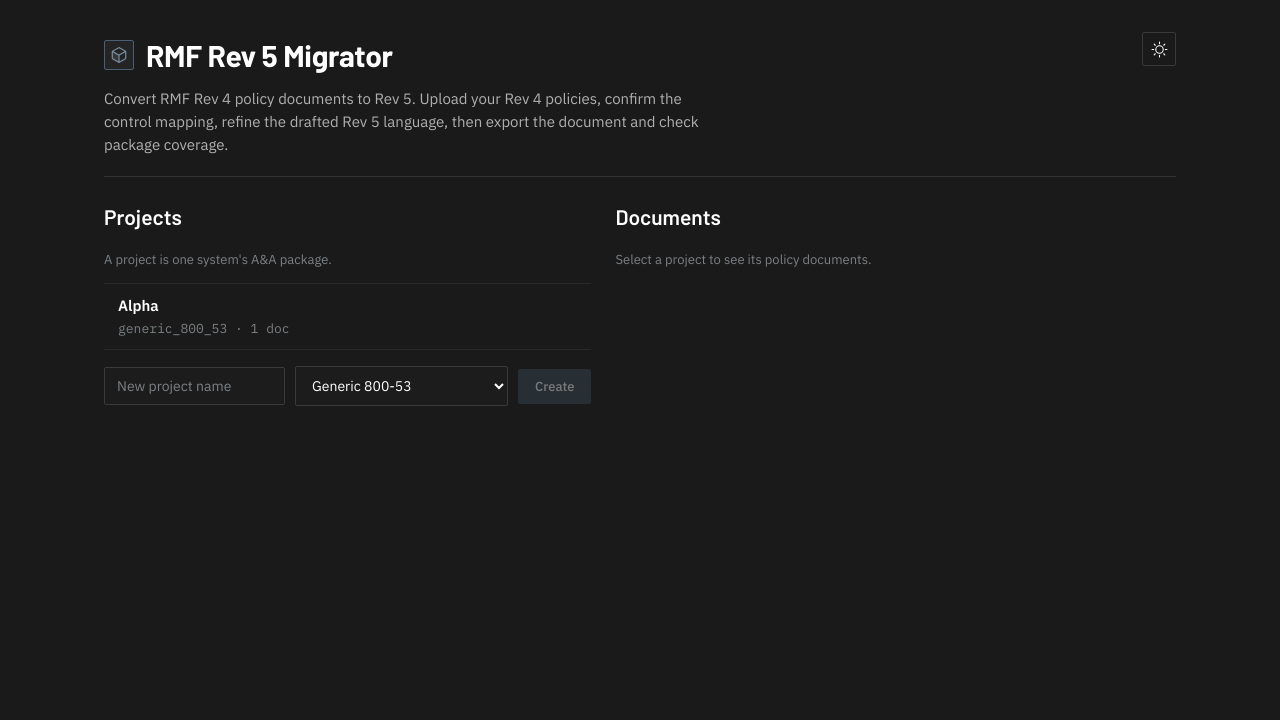
Test case: Failed document reasons › explains a legacy .doc rejection in plain words
Click the button "Alpha generic_800_53 · 1 doc". click: (138, 305)
box: left=104, top=284, right=591, bottom=349
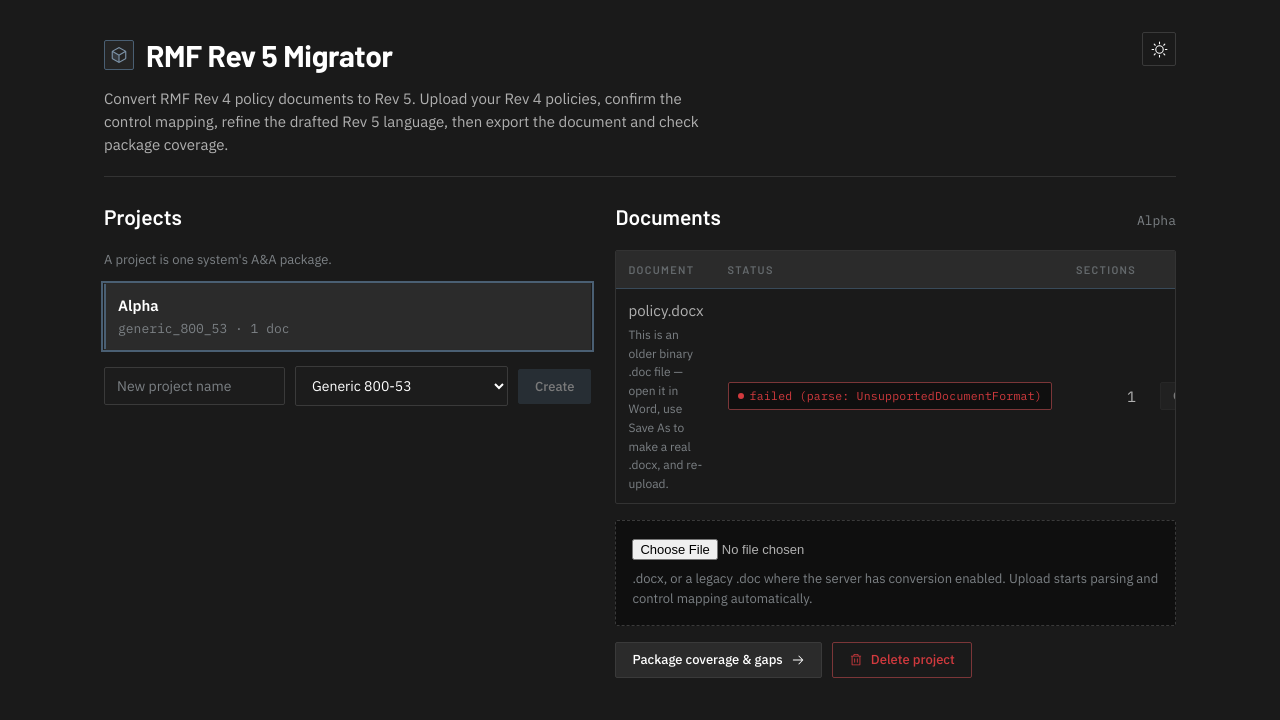
Now the text "Save As" is shown, box left=628, top=327, right=702, bottom=491
